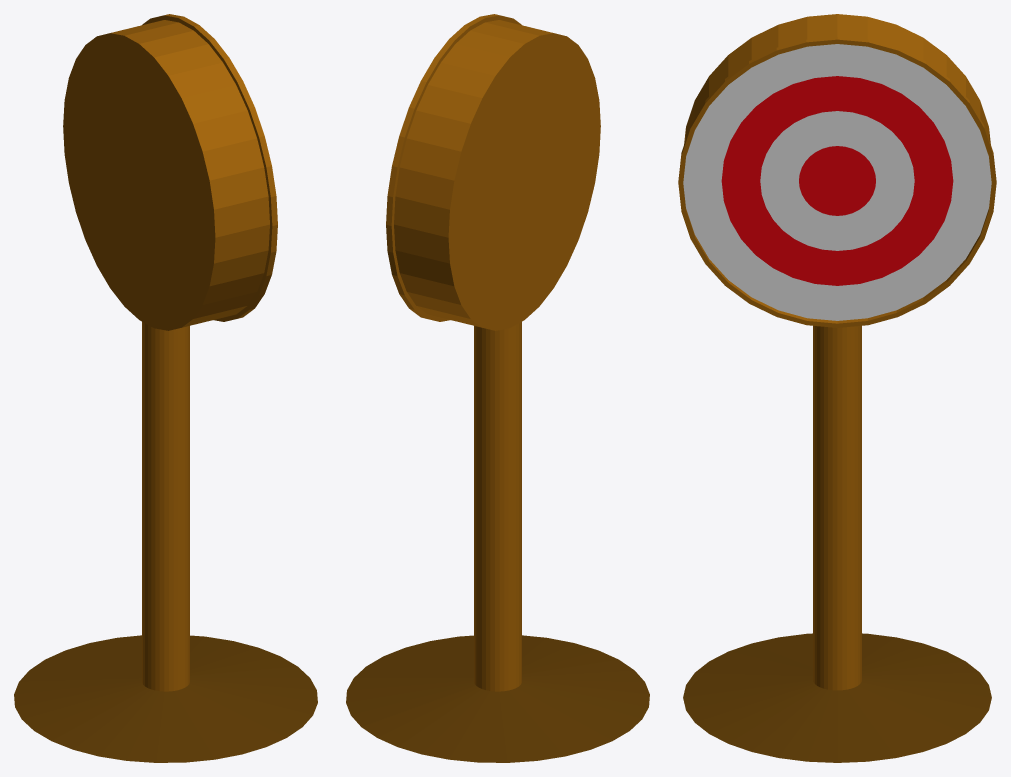
Rendered from target.fbx.
3 views of the same model, side by side, from view 1: azimuth 30°, elevation 25°; view 2: azimuth 150°, elevation 25°; view 3: azimuth 270°, elevation 25° (orthographic).
Visible parts, largest first — view 1: target; view 2: target; view 3: target.
Part boxes in pixels (<box>): target: <box>14,14,317,762</box>; target: <box>346,14,649,762</box>; target: <box>678,14,996,762</box>.
Size of the model in its own units: 200 by 482 by 206.
